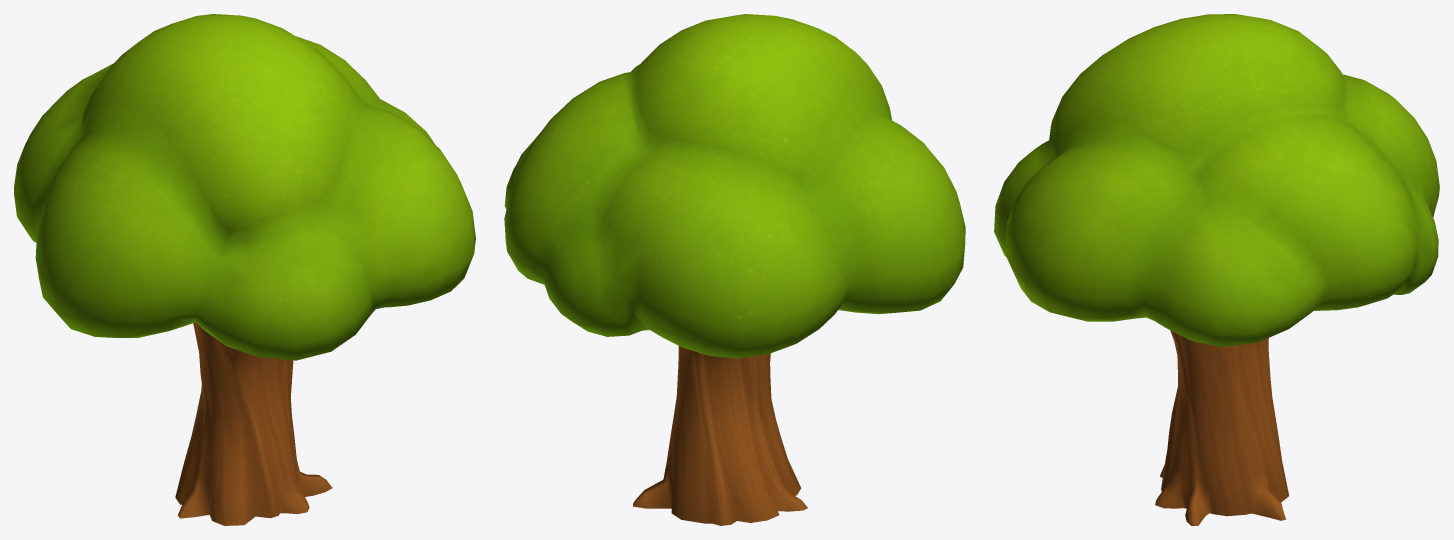
The model's file is Tree3.fbx.
3 views of the same model, side by side, from view 1: azimuth 30°, elevation 25°; view 2: azimuth 150°, elevation 25°; view 3: azimuth 270°, elevation 25° (orthographic). The views are drawn at different scales.
Visible parts, largest first — view 1: LEAVES_LP, TRUNK_LP; view 2: LEAVES_LP, TRUNK_LP; view 3: LEAVES_LP, TRUNK_LP.
Boxes of the visible parts, <box> form: LEAVES_LP: <box>14,14,475,360</box>; TRUNK_LP: <box>175,322,332,525</box>; LEAVES_LP: <box>504,14,965,358</box>; TRUNK_LP: <box>633,346,807,525</box>; LEAVES_LP: <box>994,14,1439,346</box>; TRUNK_LP: <box>1155,330,1289,525</box>.
Size of the model in its own units: 1465 by 1615 by 1425.
2 materials, 2 textured.
